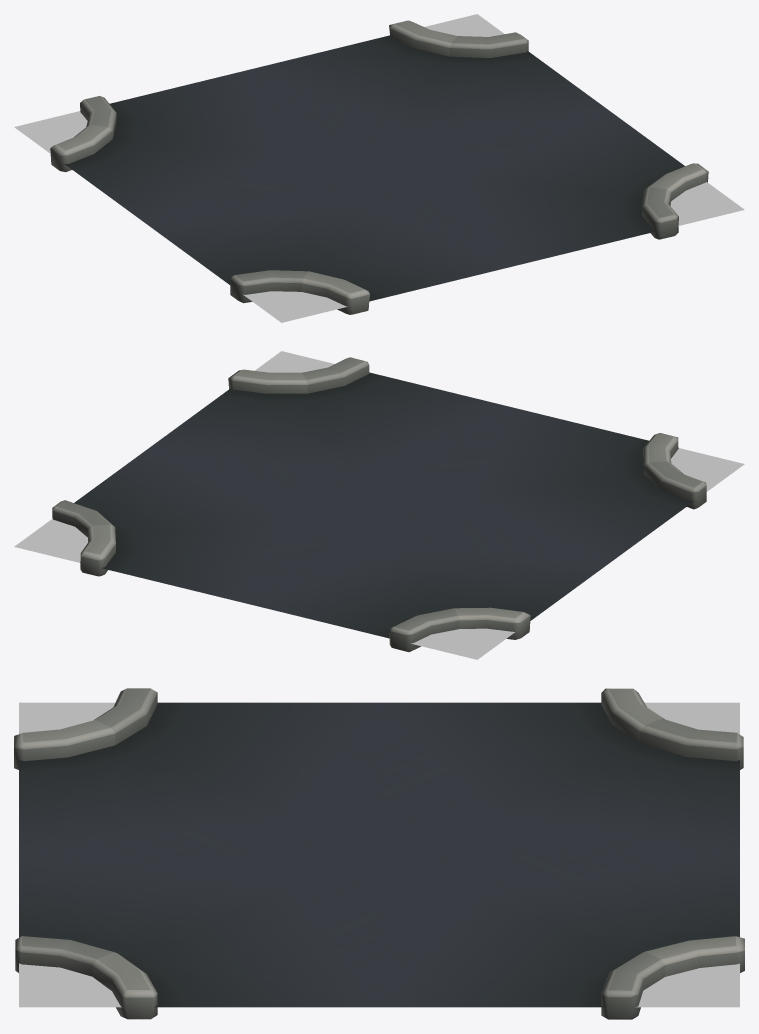
The model's file is lane_section_cross.fbx.
The picture shows the model from 3 angles, top to bottom: view 1: azimuth 30°, elevation 25°; view 2: azimuth 150°, elevation 25°; view 3: azimuth 270°, elevation 25°; orthographic projection. The views are drawn at different scales.
Visible parts, largest first — view 1: lane_section_cross, lane_section_cross_sidewalk; view 2: lane_section_cross, lane_section_cross_sidewalk; view 3: lane_section_cross, lane_section_cross_sidewalk.
Boxes of the visible parts, left/top/right/bottom form: lane_section_cross: left=50, top=20, right=708, bottom=314; lane_section_cross_sidewalk: left=14, top=14, right=744, bottom=322; lane_section_cross: left=52, top=357, right=706, bottom=652; lane_section_cross_sidewalk: left=14, top=351, right=744, bottom=659; lane_section_cross: left=14, top=688, right=744, bottom=1019; lane_section_cross_sidewalk: left=19, top=702, right=739, bottom=1007.
Bounding box in the file's own units: 1217 × 53.6 × 1217.
